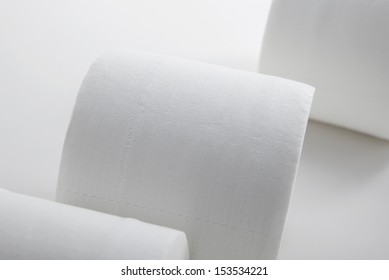Tissue: (56, 47, 316, 266)
